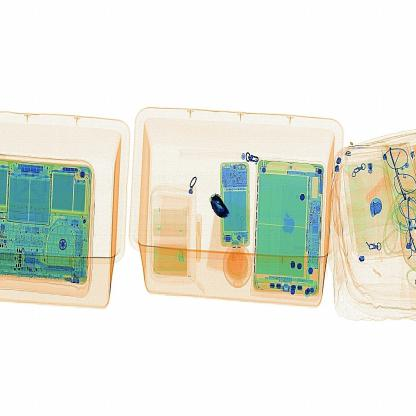scissors: (204, 186, 236, 227)
